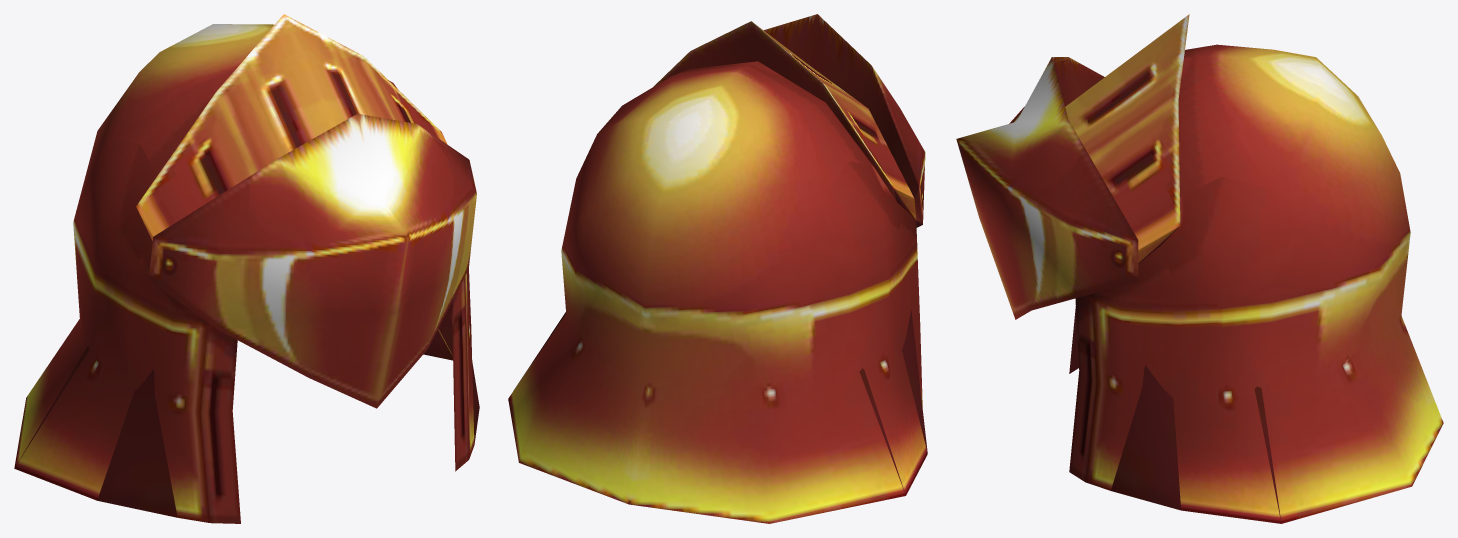
Rendered from helm0062.fbx.
The picture shows the model from 3 angles, left to right: view 1: azimuth 30°, elevation 25°; view 2: azimuth 150°, elevation 25°; view 3: azimuth 270°, elevation 25°; orthographic projection. The views are drawn at different scales.
Parts seen in each view (by area): view 1: helm0062_m; view 2: helm0062_m; view 3: helm0062_m.
Boxes of the visible parts, bbox=[...] form: helm0062_m: bbox=[14, 14, 479, 523]; helm0062_m: bbox=[508, 14, 927, 523]; helm0062_m: bbox=[956, 14, 1443, 523].
Size of the model in its own units: 0.3559 by 0.3367 by 0.3635.
1 material, 1 textured.
